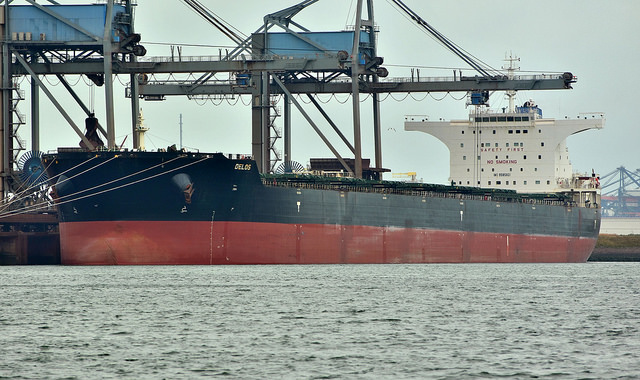bulk carrier: (42, 89, 605, 262)
